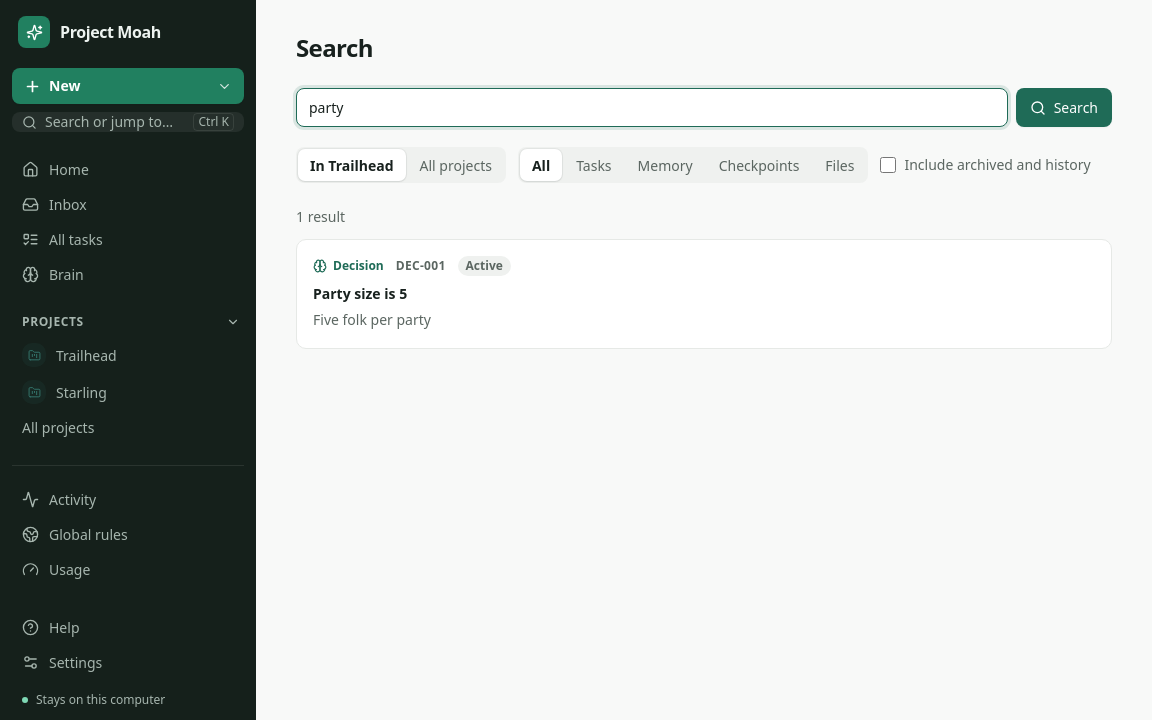
Test: search › searches all projects only after an explicit choice, and names each project
Expected: the link "Decision DEC-001 Active Party size is 5 Five folk per party" is shown, [296, 239, 1112, 349]
Click the button "All projects". click: click(456, 165)
box: [408, 149, 504, 181]
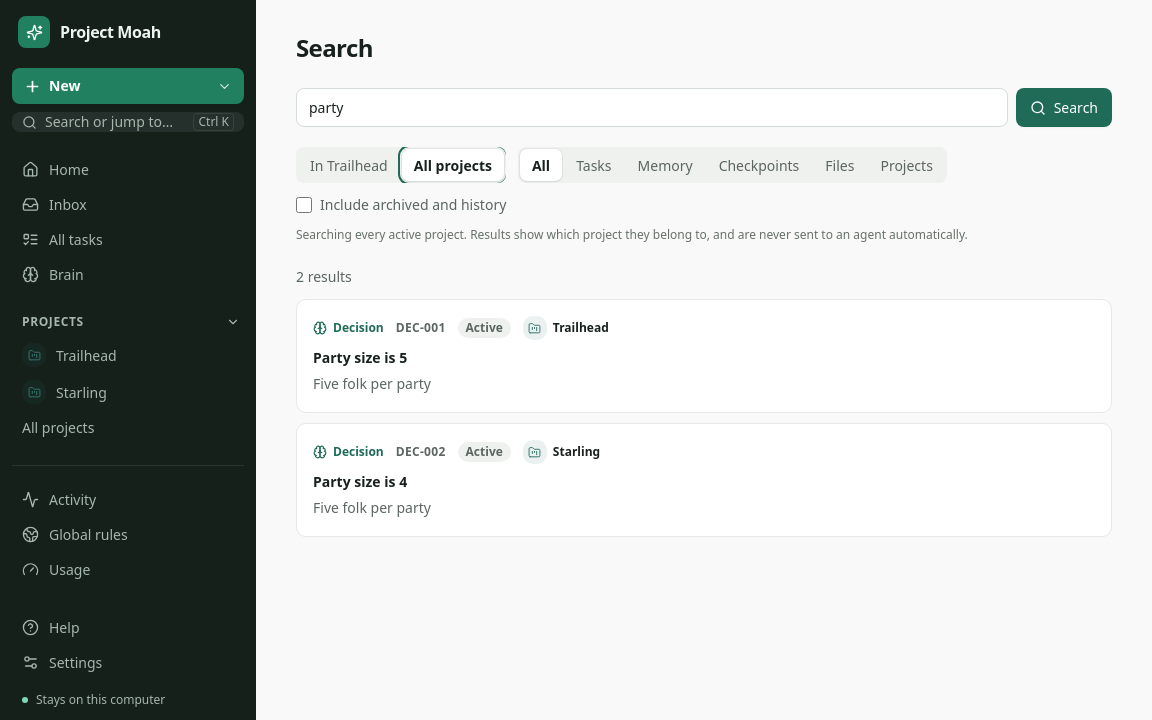
Result: the text "Starling" is shown at [523, 440, 600, 464]
